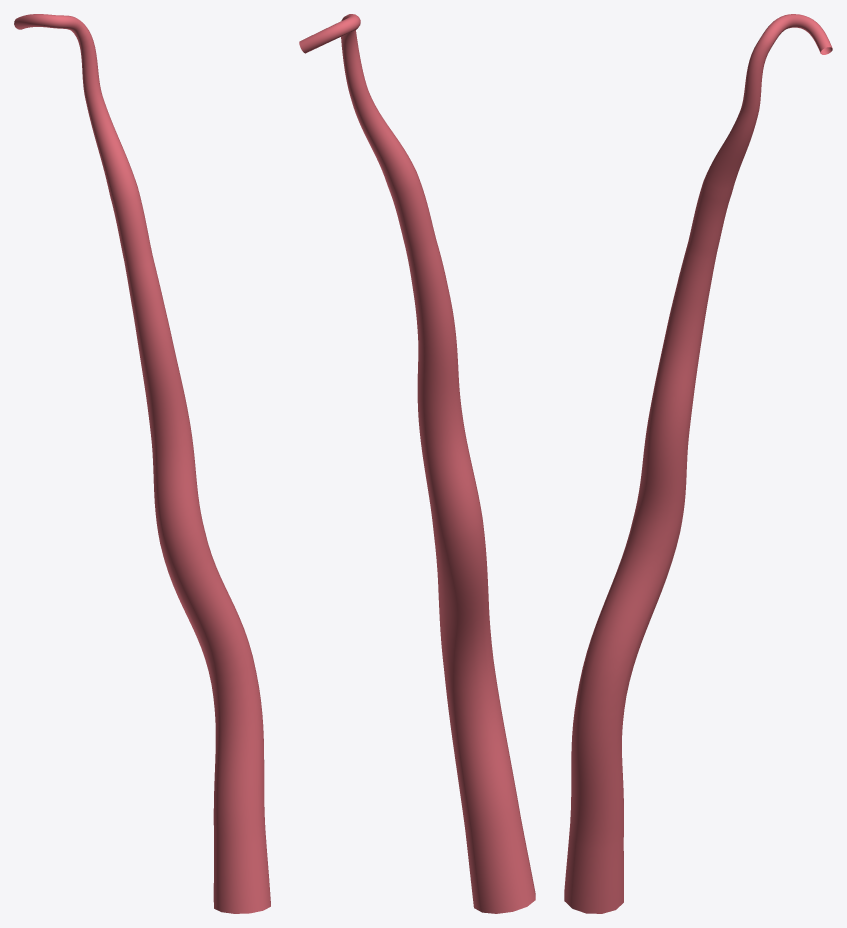
3 views of the same model, side by side, from view 1: azimuth 90°, elevation 25°; view 2: azimuth 150°, elevation 25°; view 3: azimuth 270°, elevation 25° (orthographic). The views are drawn at different scales.
Parts seen in each view (by area): view 1: ZA_78b3e35a4bfca581; view 2: ZA_78b3e35a4bfca581; view 3: ZA_78b3e35a4bfca581.
Boxes of the visible parts, box(x1,y1,x2,y2) form: ZA_78b3e35a4bfca581: box(14, 14, 270, 913); ZA_78b3e35a4bfca581: box(299, 14, 535, 913); ZA_78b3e35a4bfca581: box(564, 14, 832, 913).
Bounding box in the file's own units: 0.0199 × 0.1627 × 0.0435.
